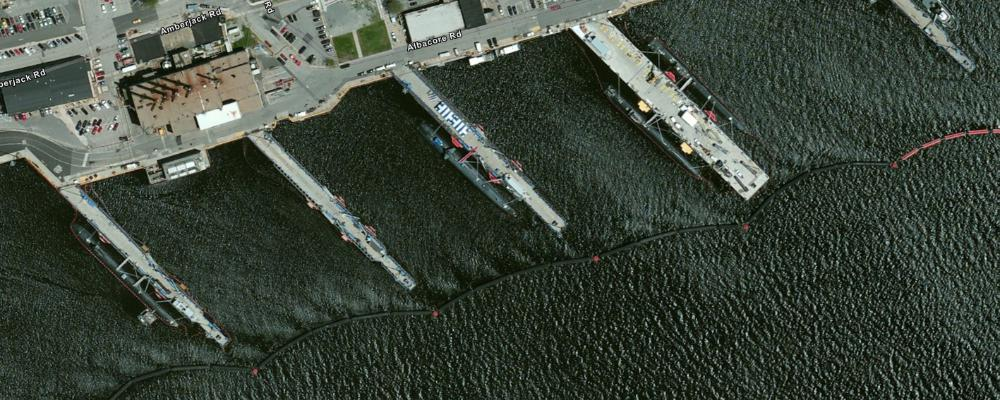submarine: (64, 217, 196, 346), (639, 27, 769, 149), (411, 115, 527, 231)
